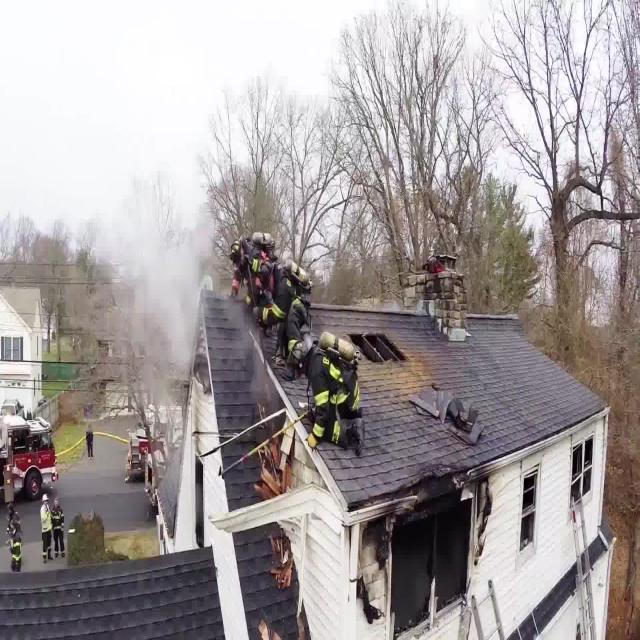Smoke: (103, 177, 212, 355)
